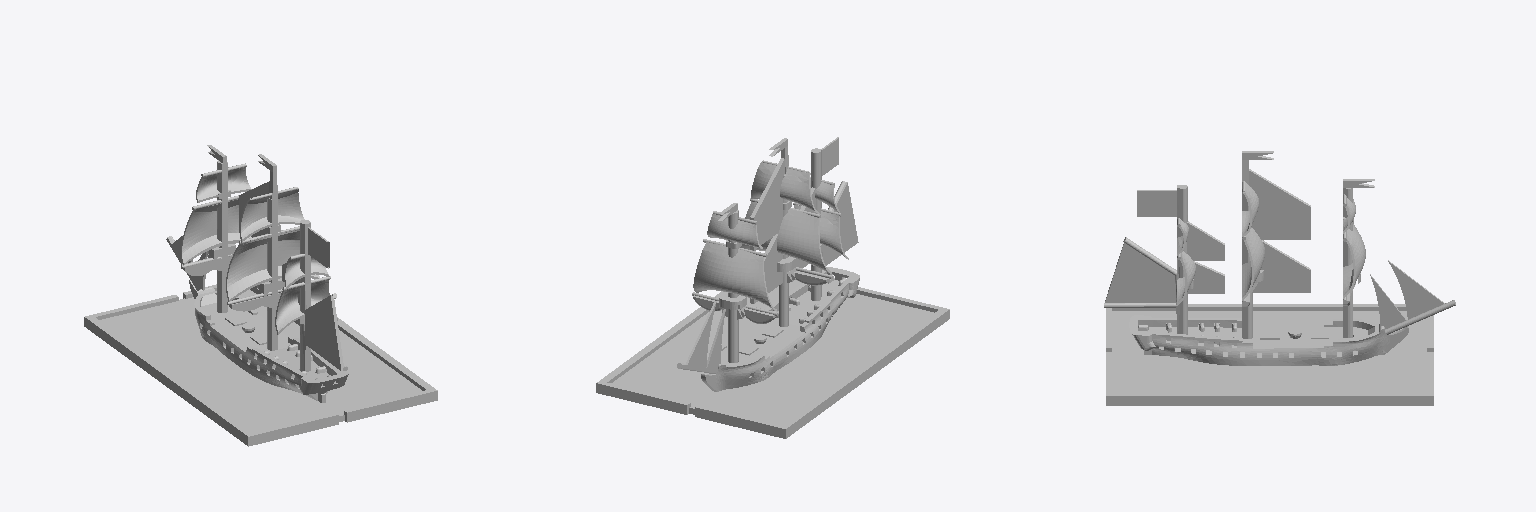
File: SOG_Hebe.obj
3 renders of one model, left to right at view 1: azimuth 30°, elevation 25°; view 2: azimuth 150°, elevation 25°; view 3: azimuth 270°, elevation 25°, orthographic.
Visible parts, largest first — view 1: SOG_Hebe.obj; view 2: SOG_Hebe.obj; view 3: SOG_Hebe.obj.
Boxes of the visible parts, x1=… form: SOG_Hebe.obj: x1=84, y1=145, x2=437, y2=446; SOG_Hebe.obj: x1=596, y1=137, x2=949, y2=438; SOG_Hebe.obj: x1=1104, y1=151, x2=1455, y2=405.
Bounding box in the file's own units: 4.3 × 4.5 × 6.93.